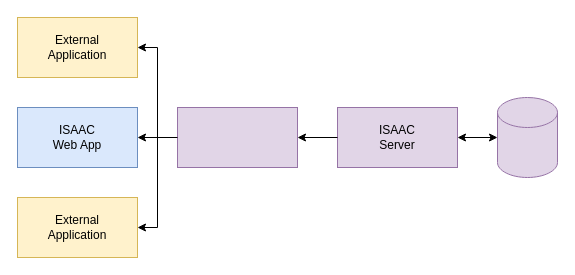
The diagram is 575 pixels wide and 275 high, and some of its shapes have lost their labels. The shapes that lost their labels are listed below. From the top down, each one's box as (x1, y1, x2, y2) in pixels, then its label:
(176, 106, 298, 168): ISAAC API
(496, 96, 558, 178): ISAAC DB
